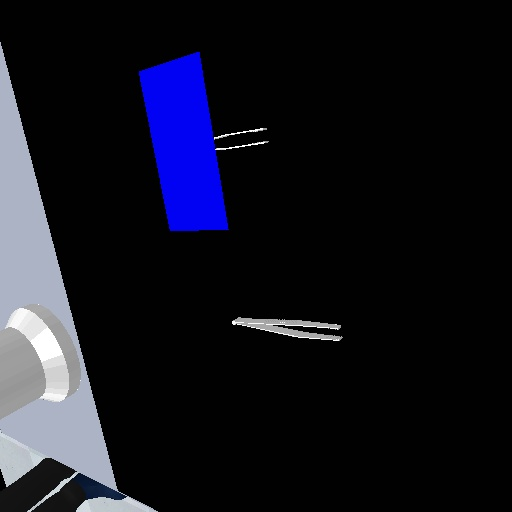pinza: (227, 310, 345, 344), (213, 123, 273, 153)
